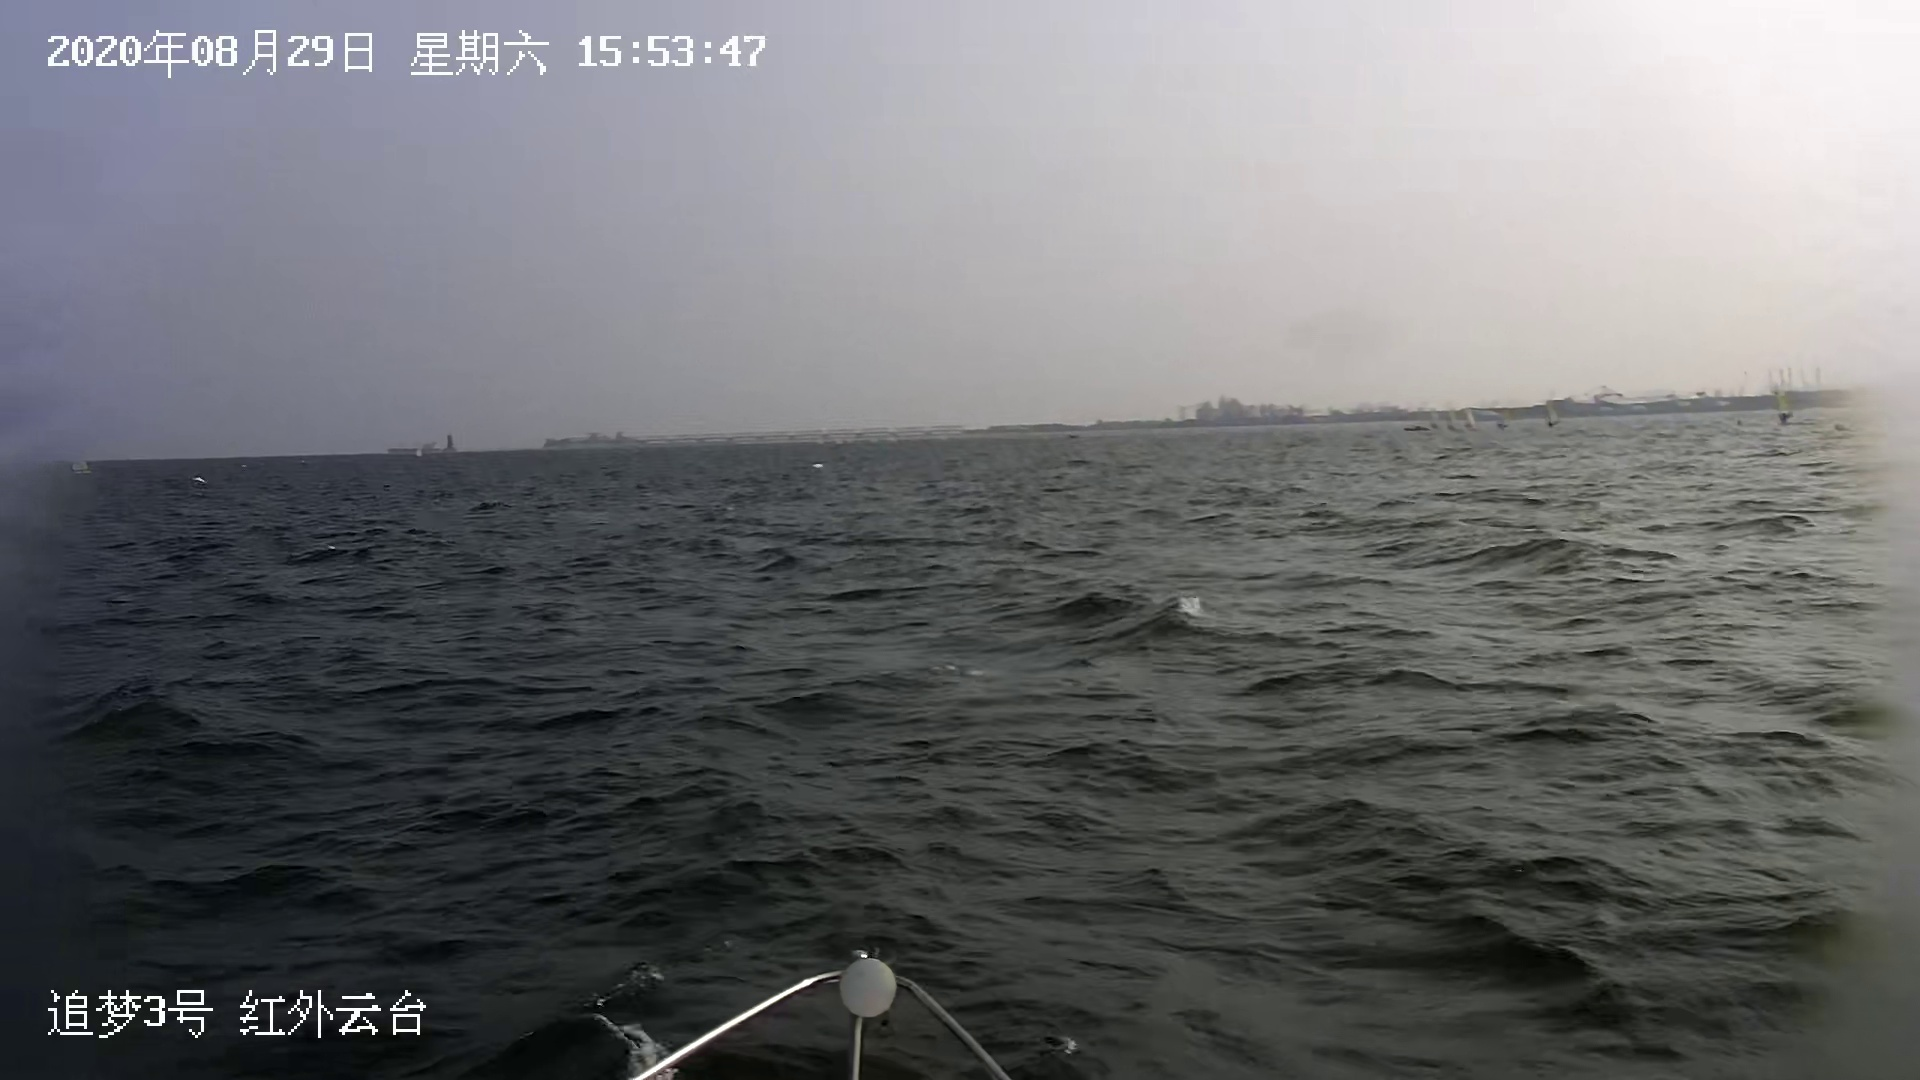barrier: (1778, 392, 1800, 423), (70, 448, 90, 476), (1447, 405, 1462, 435), (1462, 405, 1480, 433), (1545, 401, 1560, 429), (1428, 405, 1441, 431), (1495, 407, 1511, 429), (1403, 419, 1427, 433)
coast: (396, 369, 1909, 462)
